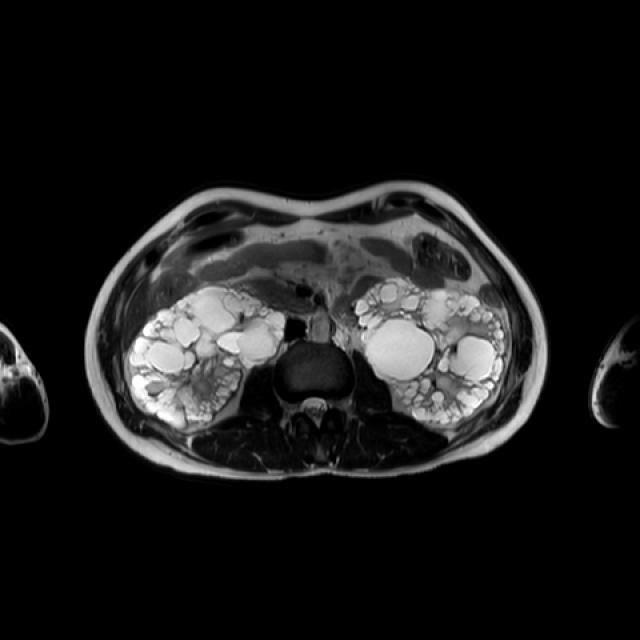sag: (129, 288, 284, 425)
sol: (356, 277, 508, 423)
